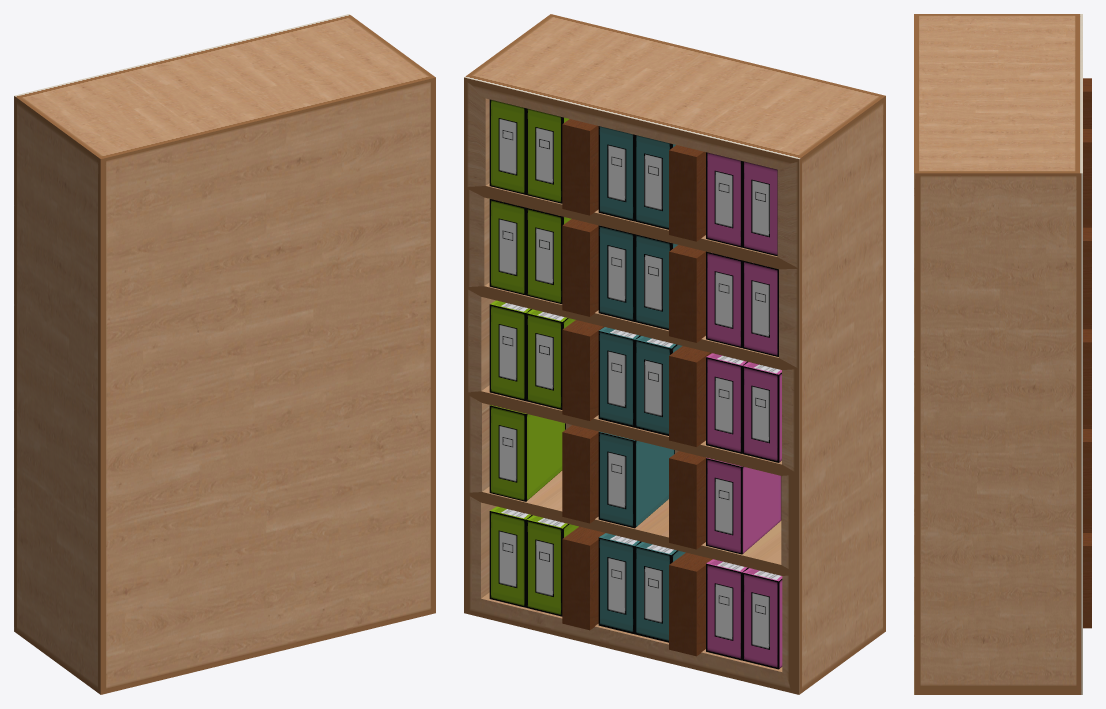
Rendered from Bookshelf_PartialFilled_Folders.fbx.
The picture shows the model from 3 angles, left to right: view 1: azimuth 30°, elevation 25°; view 2: azimuth 150°, elevation 25°; view 3: azimuth 270°, elevation 25°; orthographic projection. The views are drawn at different scales.
Parts seen in each view (by area): view 1: Bookshelf_Secret1; view 2: Bookshelf_Secret1; view 3: Bookshelf_Secret1.
Part boxes in pixels (x1=…): Bookshelf_Secret1: x1=14, y1=14, x2=435, y2=694; Bookshelf_Secret1: x1=464, y1=14, x2=885, y2=694; Bookshelf_Secret1: x1=914, y1=14, x2=1091, y2=694.
Size of the model in its own units: 127 by 194 by 59.92.
